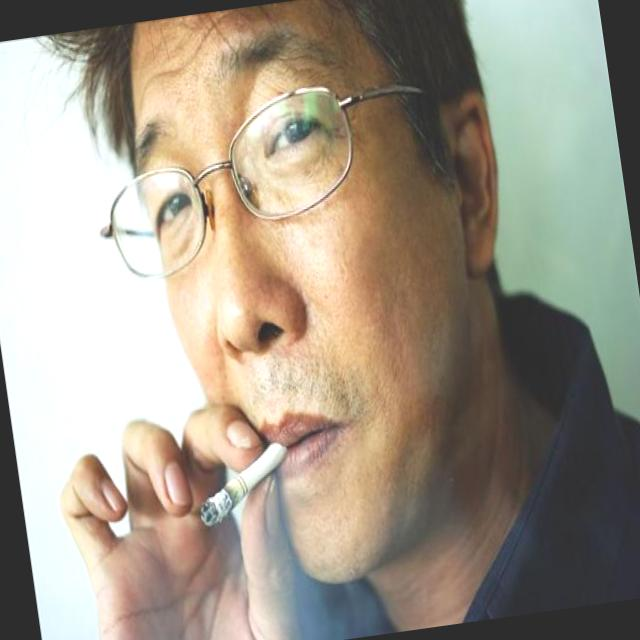smoke: (188, 429, 314, 532)
